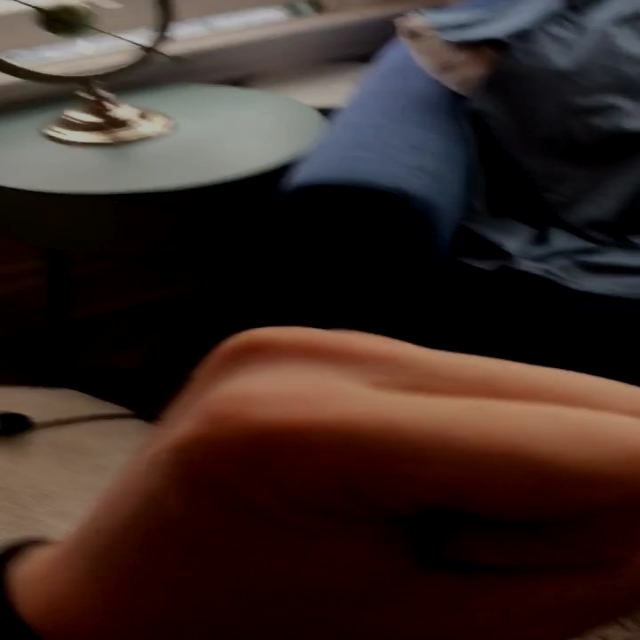Rock: (60, 325, 640, 640)
